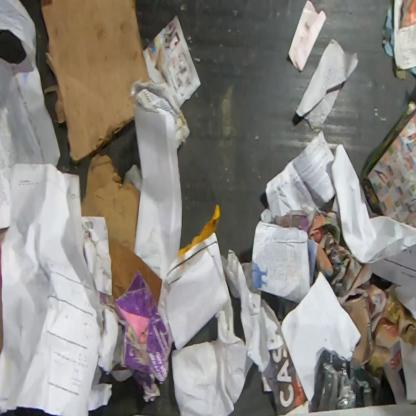cardboard: (40, 0, 151, 165), (81, 152, 162, 307)
rigid_plastic: (311, 349, 382, 412)
